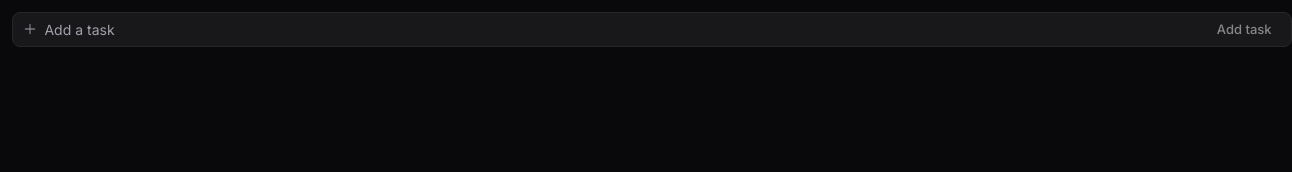
QuickAddTask date words (M32) › test Backspace at the start of the field removes the chip and the words stay in the title
Later steps or results of the test are not shown.
Type "Plan the trip next week" into the field with placeholder "Add a task". click: (622, 29)
box: [44,19,1199,40]
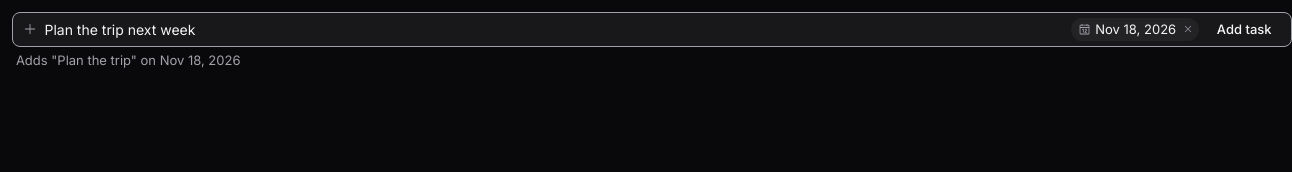
Result: the element with test id "quick-add-date" reads "Nov 18, 2026" at [1095,21,1176,37]
Note: Backspace inside the text edits the text.
Press Backspace
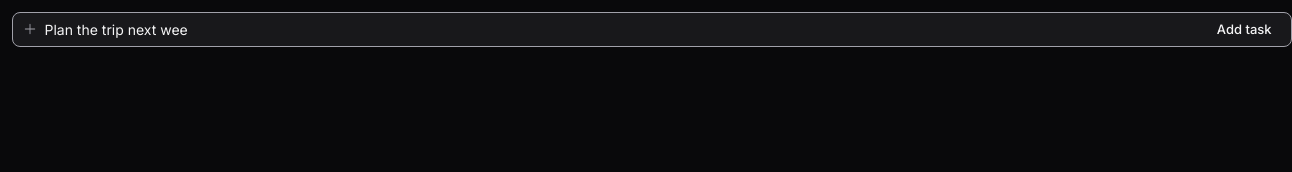
Result: the field with placeholder "Add a task" holds "Plan the trip next wee"
Type "k" into the field with placeholder "Add a task". click: (622, 29)
box: [44,19,1199,40]
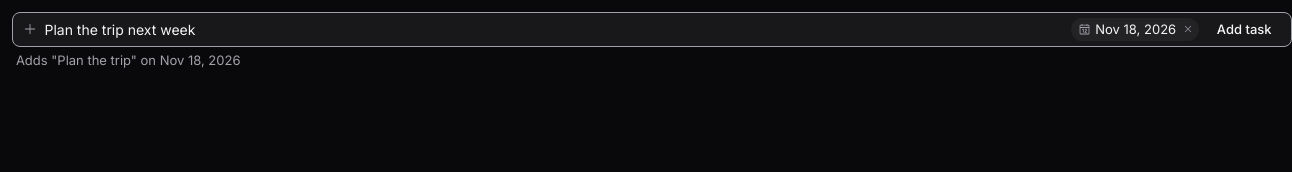
Result: the element with test id "quick-add-date" is shown at [1071,18,1199,41]
Press Backspace
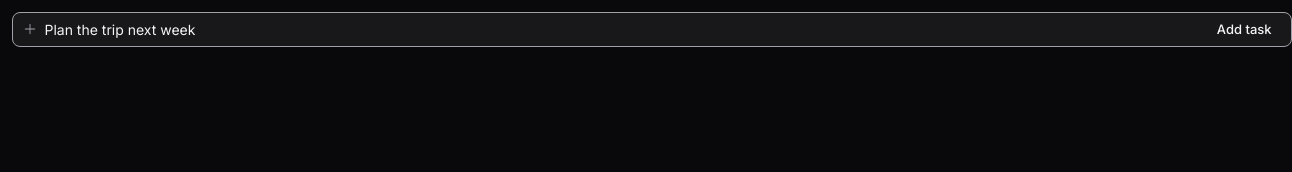
Result: the element with test id "quick-add-date" is gone
